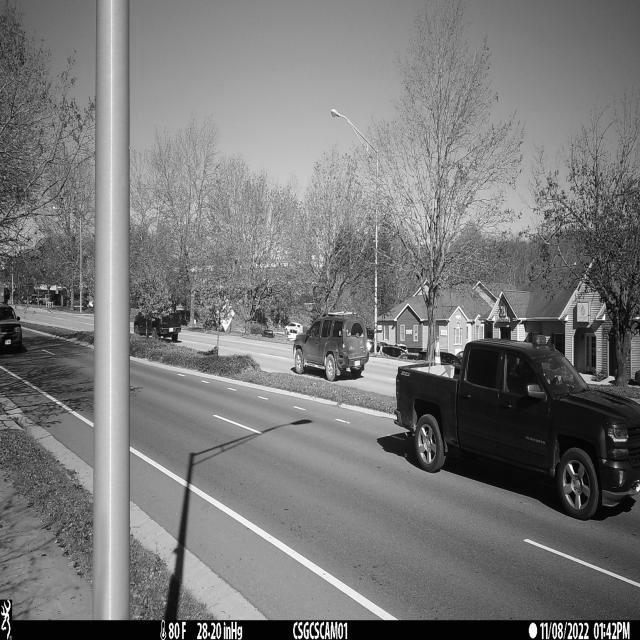Pickup: (394, 340, 640, 521)
